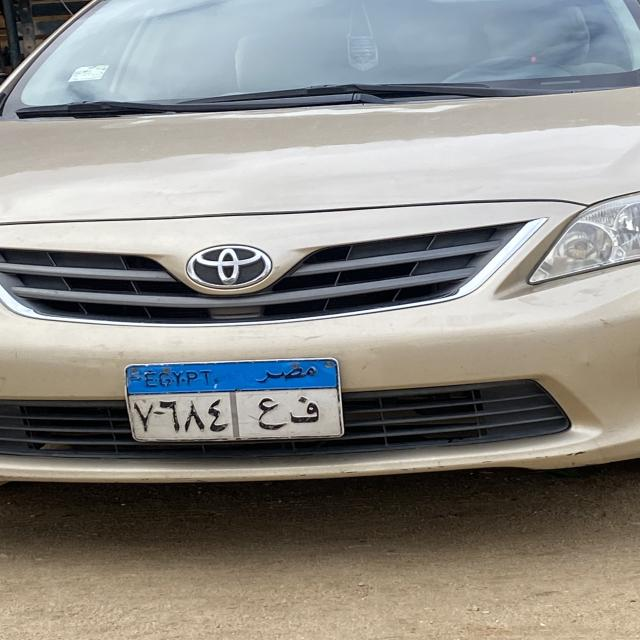License Plate: (132, 358, 348, 445)
